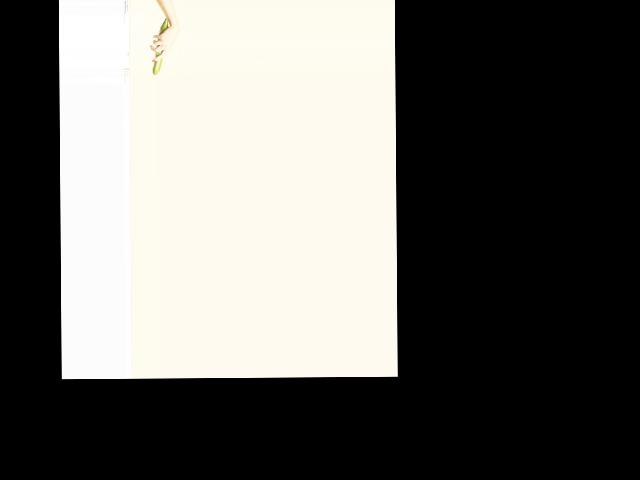cucumber: (151, 17, 168, 74)
